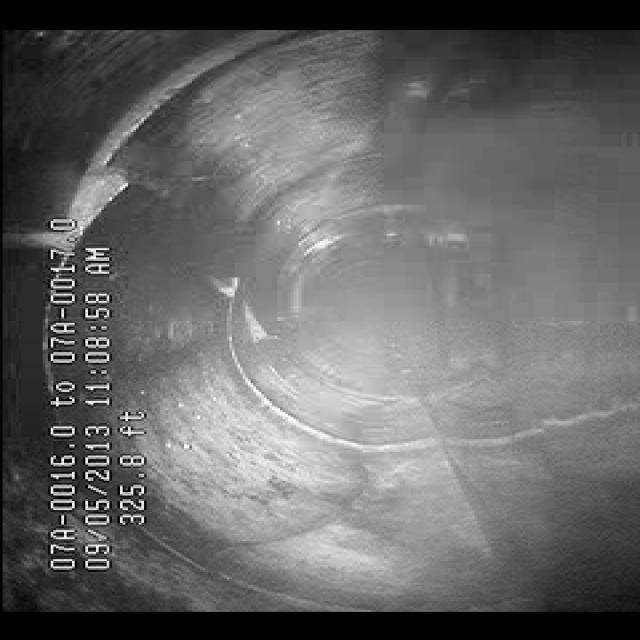Crack: (212, 474, 391, 564)
